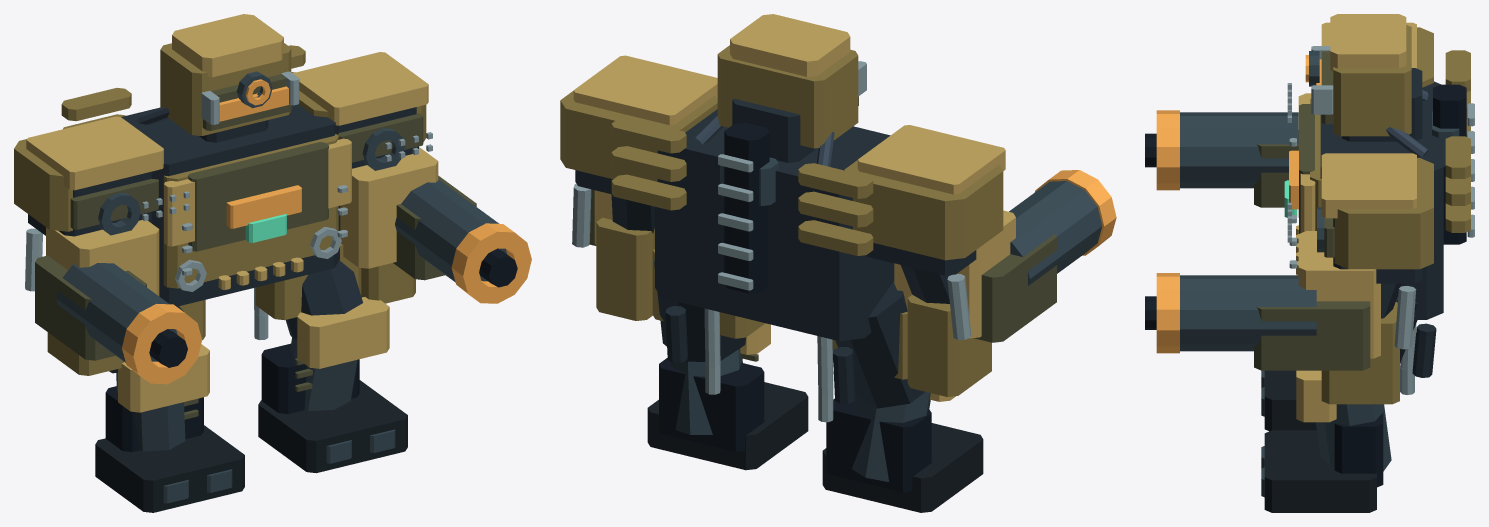
The model's file is enemy_gunner.obj.
3 renders of one model, left to right at view 1: azimuth 30°, elevation 25°; view 2: azimuth 150°, elevation 25°; view 3: azimuth 270°, elevation 25°, orthographic. The views are drawn at different scales.
Size of the model in its own units: 2.2 by 2.16 by 1.56.
